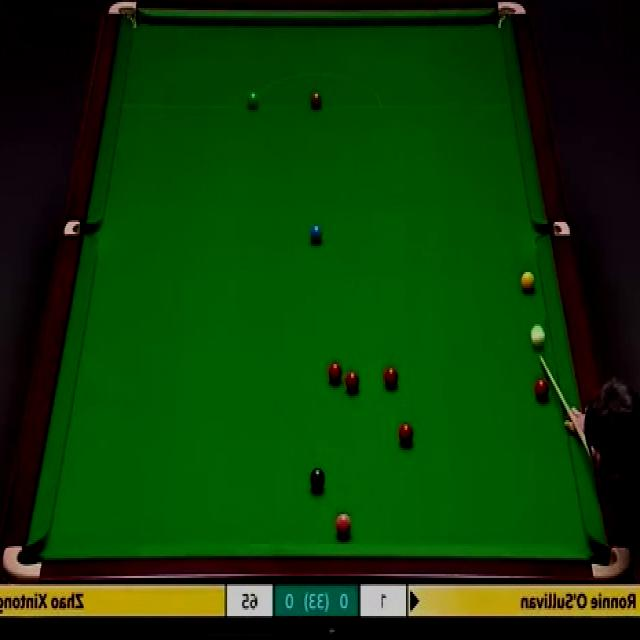black-ball: (310, 467, 326, 490)
blue-ball: (310, 223, 324, 243)
brown-ball: (310, 88, 322, 108)
green-ball: (244, 89, 260, 108)
pink-ball: (335, 512, 352, 536)
red-ball: (345, 369, 361, 394), (382, 367, 400, 389), (536, 376, 550, 404), (328, 360, 344, 383), (400, 422, 414, 446)
white-ball: (530, 326, 544, 349)
yellow-ball: (518, 268, 536, 292)
